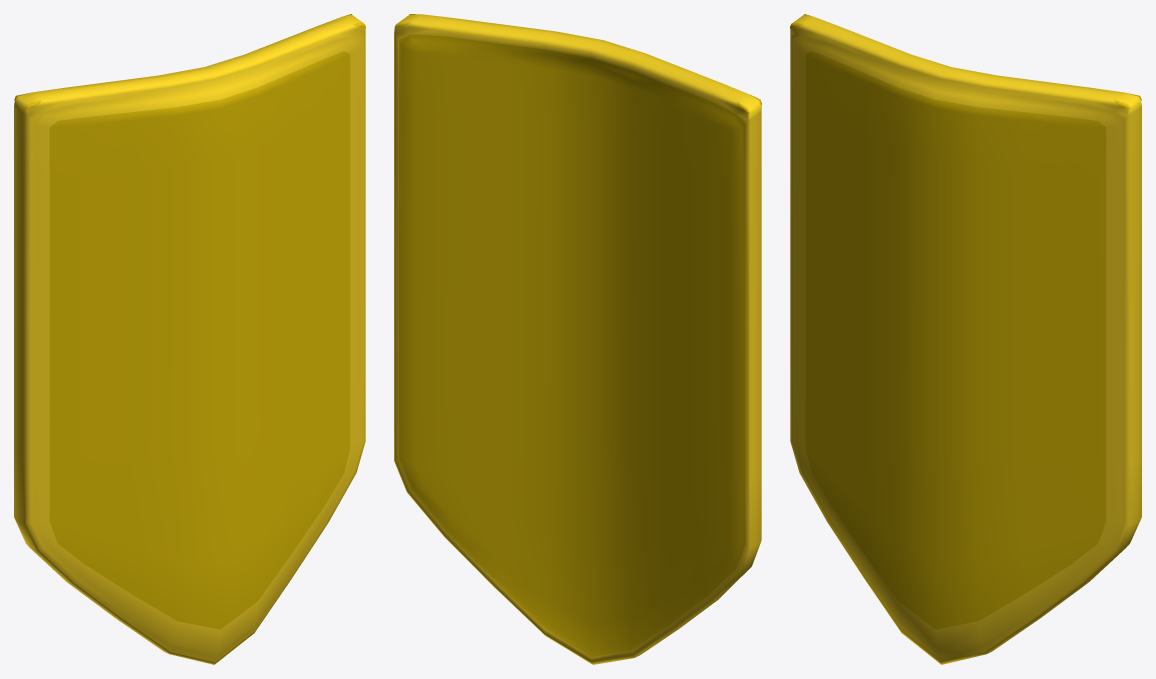
File: Shield_v1.fbx
The picture shows the model from 3 angles, left to right: view 1: azimuth 30°, elevation 25°; view 2: azimuth 150°, elevation 25°; view 3: azimuth 330°, elevation 25°; orthographic projection. The views are drawn at different scales.
Visible parts, largest first — view 1: pCube6; view 2: pCube6; view 3: pCube6.
Boxes of the visible parts, x1=… form: pCube6: x1=14, y1=14, x2=365, y2=664; pCube6: x1=394, y1=14, x2=761, y2=664; pCube6: x1=790, y1=14, x2=1141, y2=664.
Size of the model in its own units: 321 by 530 by 61.25.
